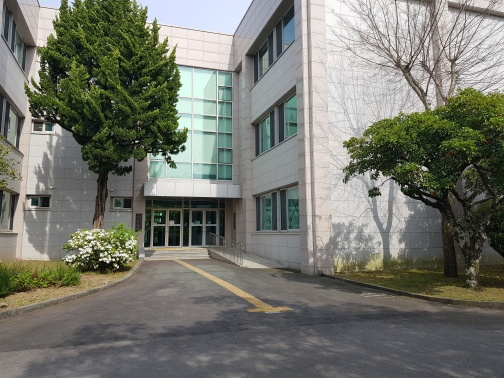College of Nursing: (20, 10, 441, 265)
